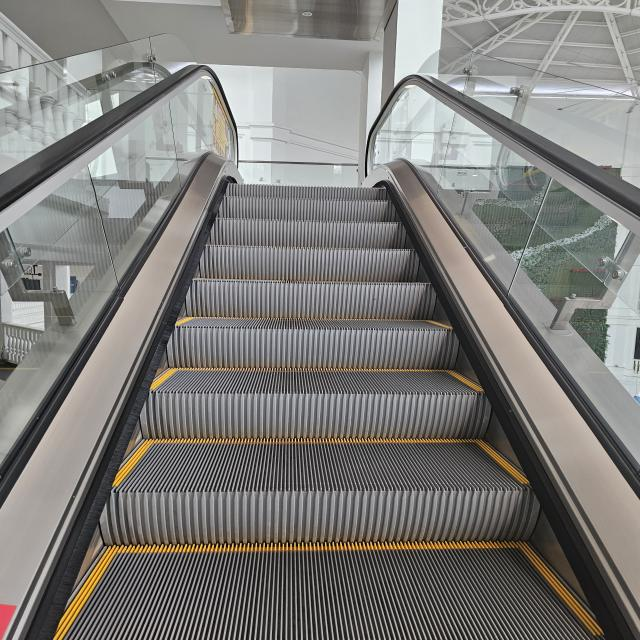escalator: (51, 164, 612, 637)
